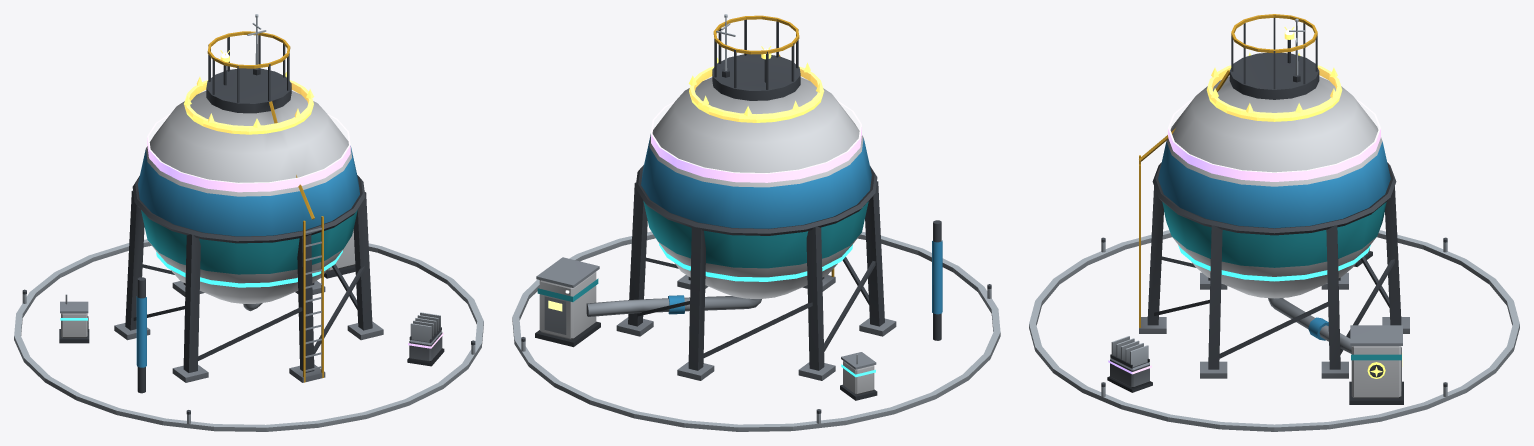
Rendered from reservoir_xl.glb.
3 views of the same model, side by side, from view 1: azimuth 30°, elevation 25°; view 2: azimuth 150°, elevation 25°; view 3: azimuth 270°, elevation 25° (orthographic). The views are drawn at different scales.
Parts seen in each view (by area): view 1: Base, L2, L4, L5, L3; view 2: Base, L2, L4, L3, L5; view 3: Base, L2, L4, L5, L3.
Part boxes in pixels (x1,y1,x2,y2): Base: (114,31,383,393); L2: (14,14,483,431); L4: (147,113,444,366); L5: (184,50,314,134); L3: (59,250,342,343); Base: (535,15,942,380); L2: (512,14,1000,431); L4: (651,100,861,182); L3: (659,243,877,400); L5: (688,46,824,122); Base: (1139,14,1409,404); L2: (1029,18,1519,431); L4: (1107,100,1380,392); L5: (1206,27,1385,378); L3: (1178,245,1372,281).
Size of the model in its own units: 9.86 by 7.08 by 9.86.
